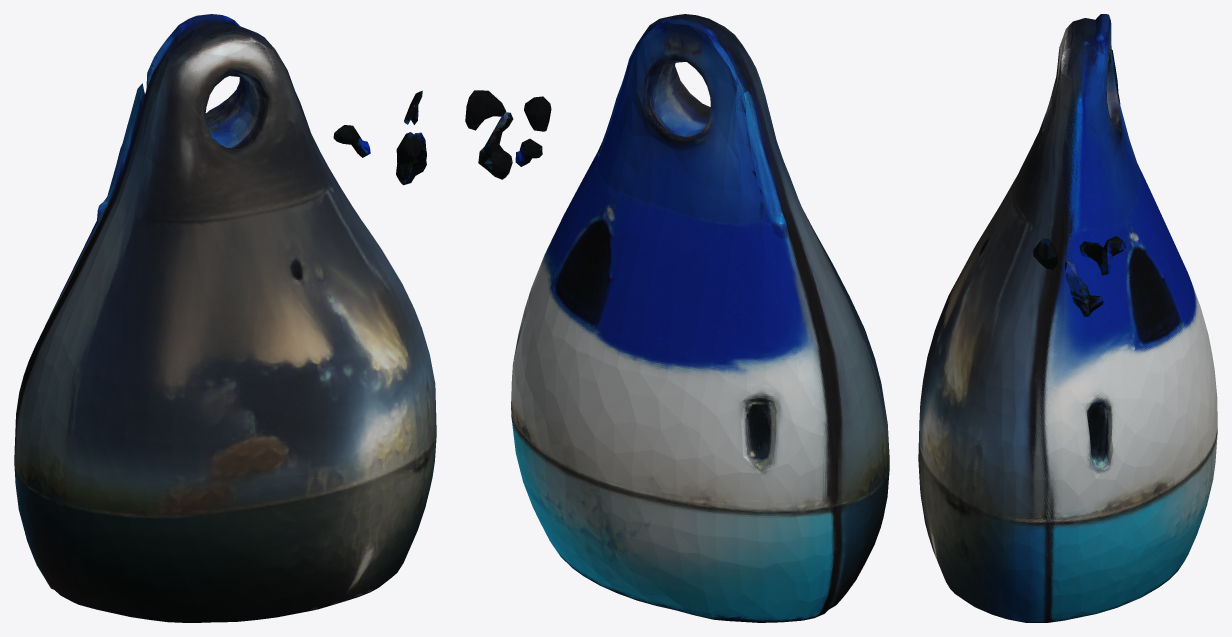
The model's file is siyah_duba11.glb.
3 renders of one model, left to right at view 1: azimuth 30°, elevation 25°; view 2: azimuth 150°, elevation 25°; view 3: azimuth 270°, elevation 25°, orthographic. The views are drawn at different scales.
Parts seen in each view (by area): view 1: world; view 2: world; view 3: world.
Boxes of the visible parts, x1,y1,x2,y2 form: world: [14, 14, 436, 622]; world: [465, 14, 889, 622]; world: [918, 14, 1217, 622].
Bounding box in the file's own units: 0.3832 × 0.5043 × 0.2573.
1 material, 1 textured.
